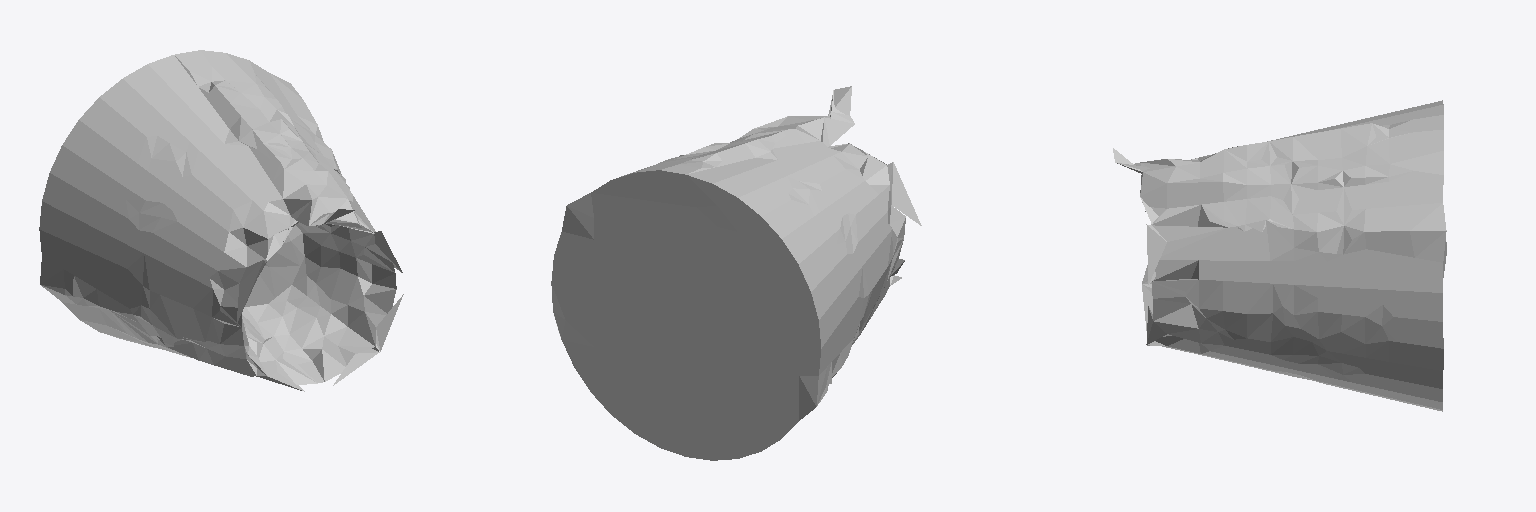
Rendered from centrale_destroy.obj.
The picture shows the model from 3 angles: view 1: azimuth 30°, elevation 25°; view 2: azimuth 150°, elevation 25°; view 3: azimuth 270°, elevation 25°; orthographic projection.
Visible parts, largest first — view 1: Circle; view 2: Circle; view 3: Circle.
Boxes of the visible parts, box(x1,y1,x2,y2) form: Circle: box(39, 50, 403, 391); Circle: box(551, 86, 921, 460); Circle: box(1113, 100, 1446, 411).
Size of the model in its own units: 45.23 by 45.26 by 48.59.